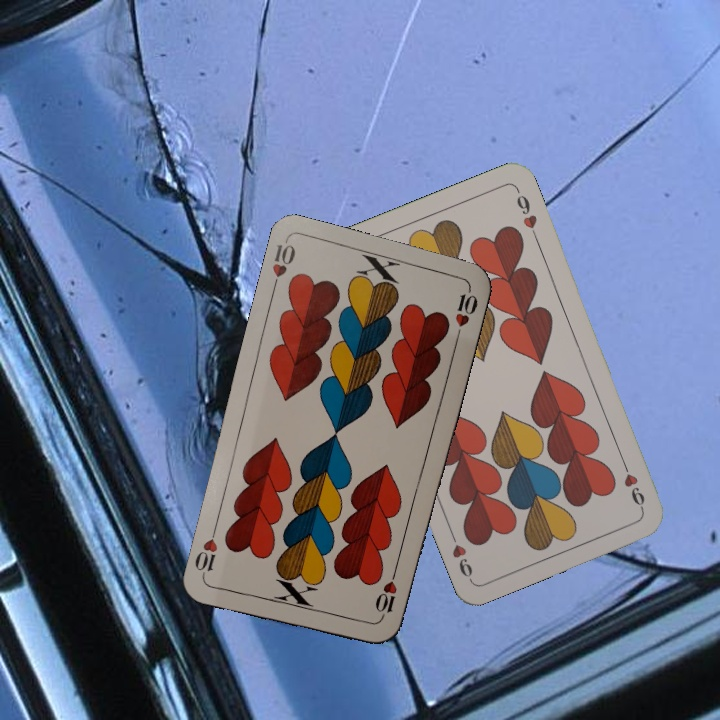H10: (267, 237, 298, 296), (372, 565, 400, 623)
H9: (617, 455, 648, 512)
